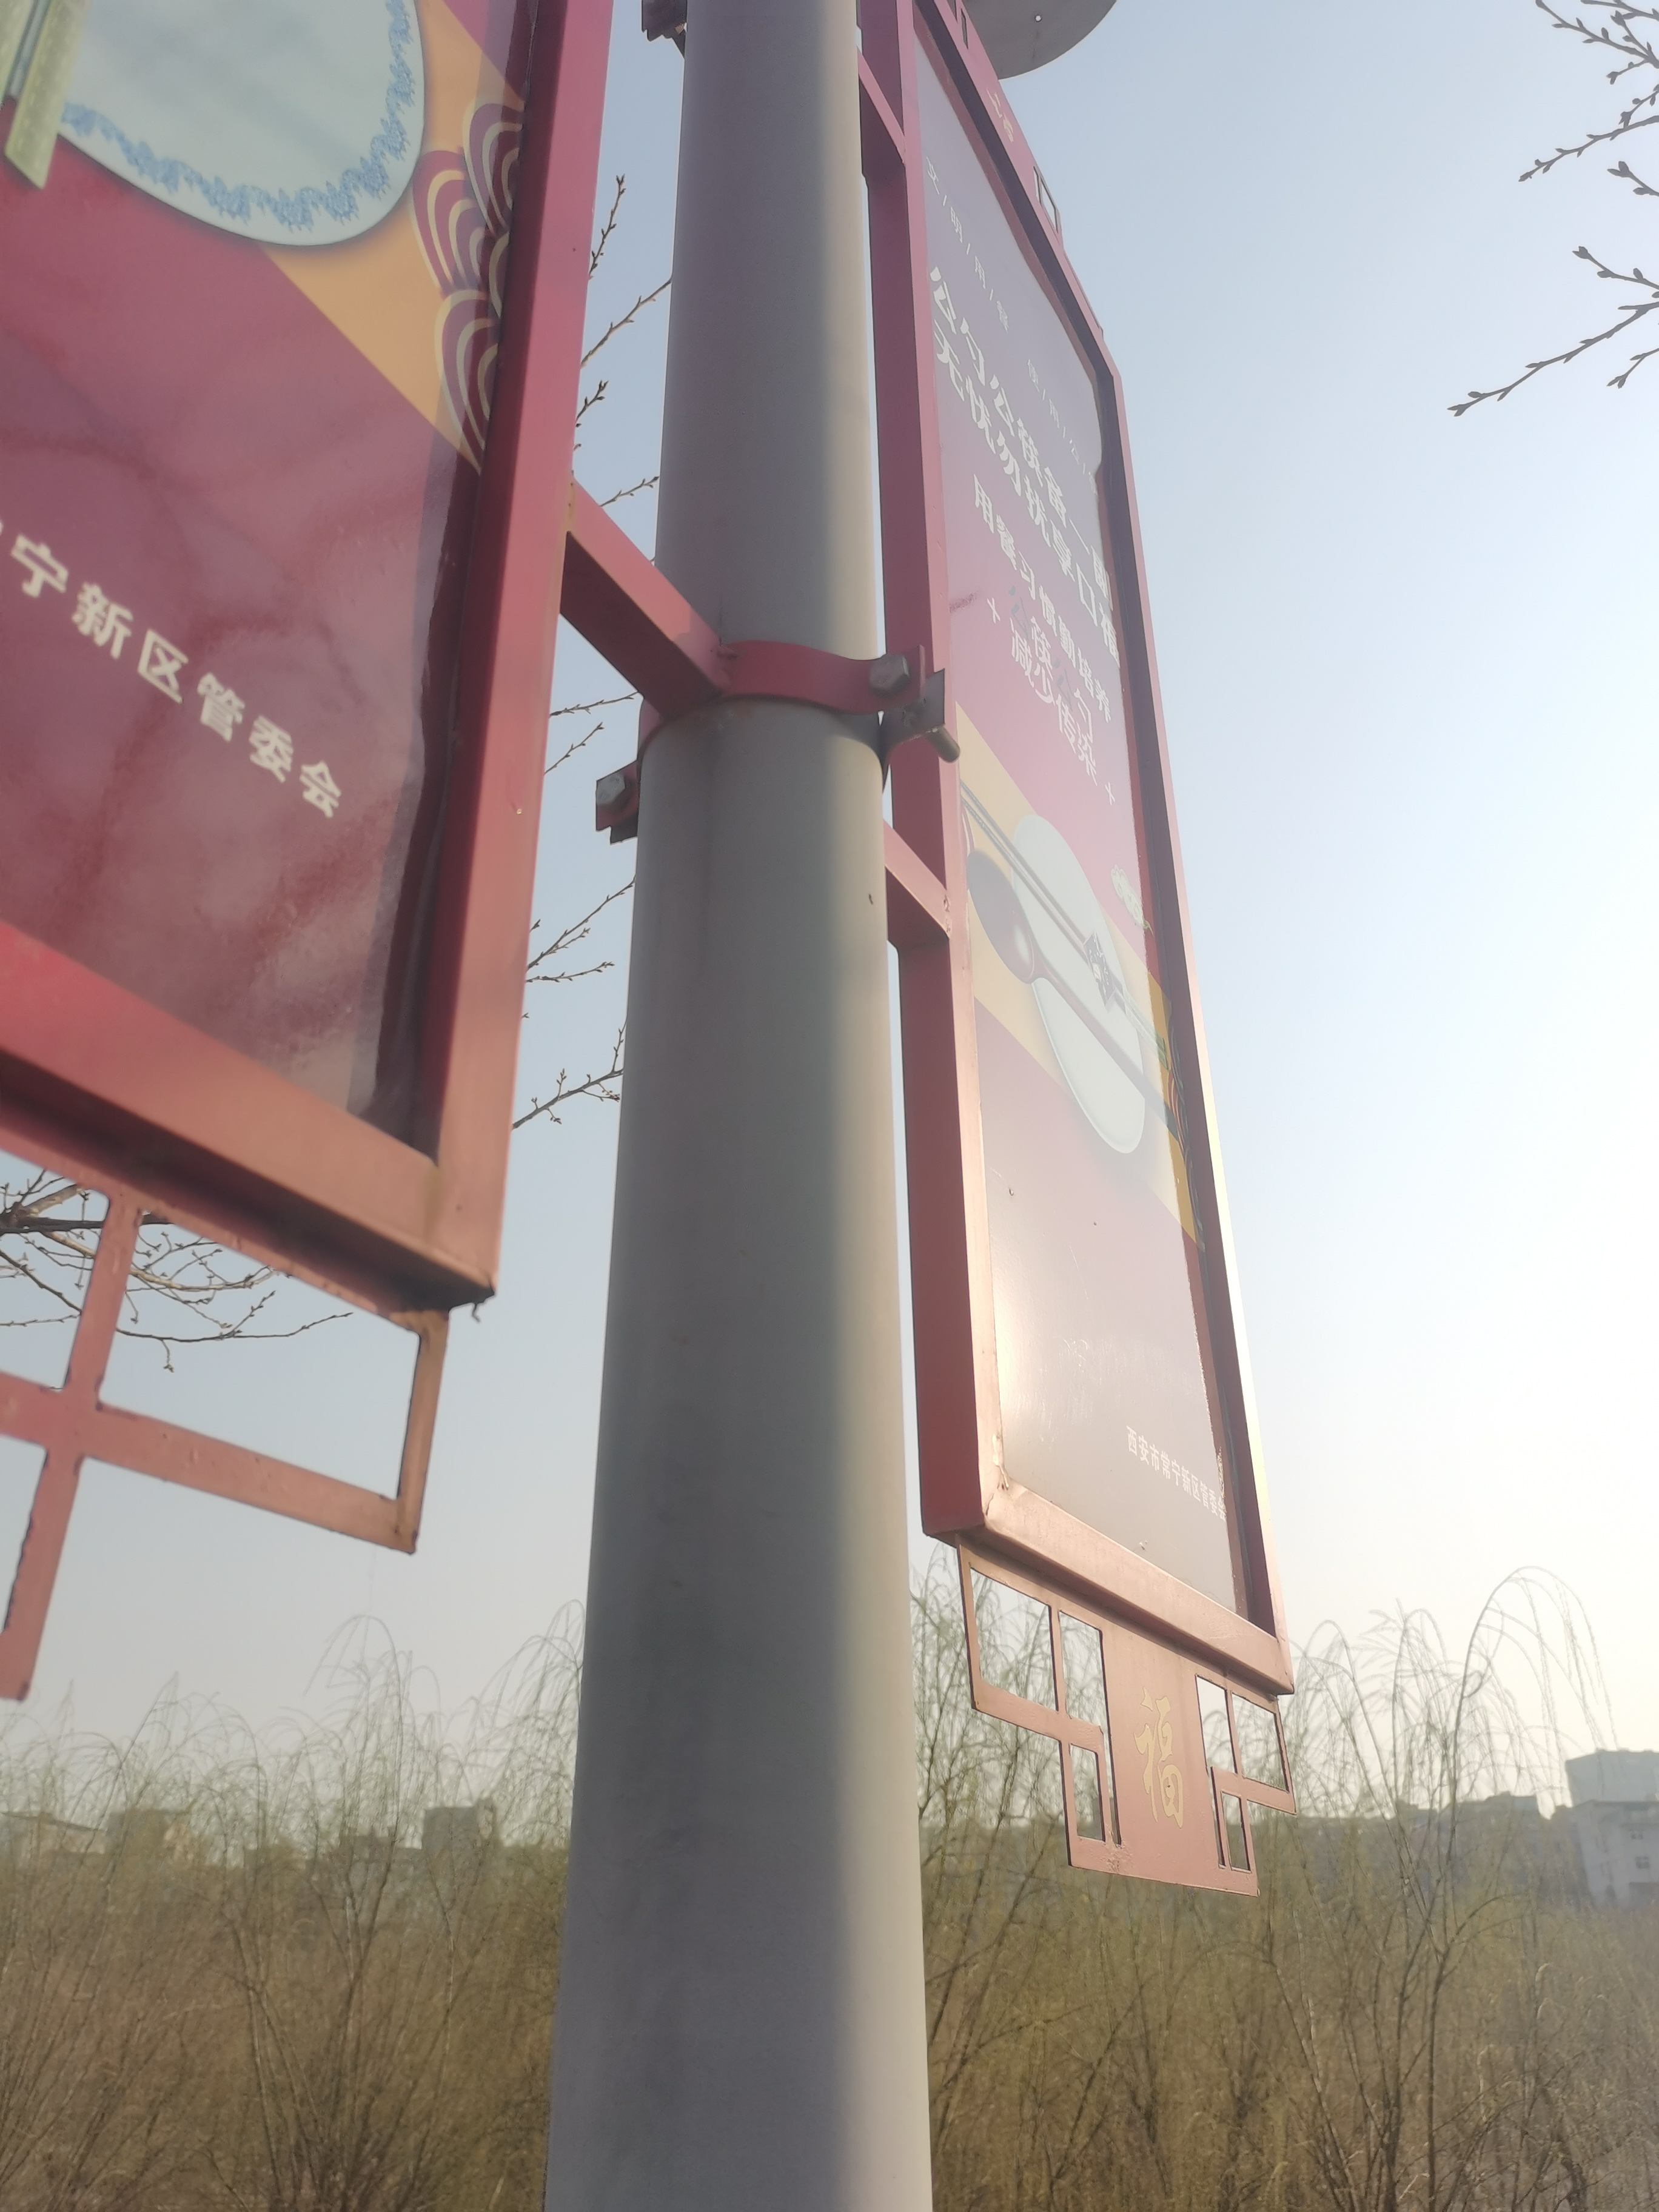vague: (864, 650, 913, 700), (594, 770, 633, 817)
